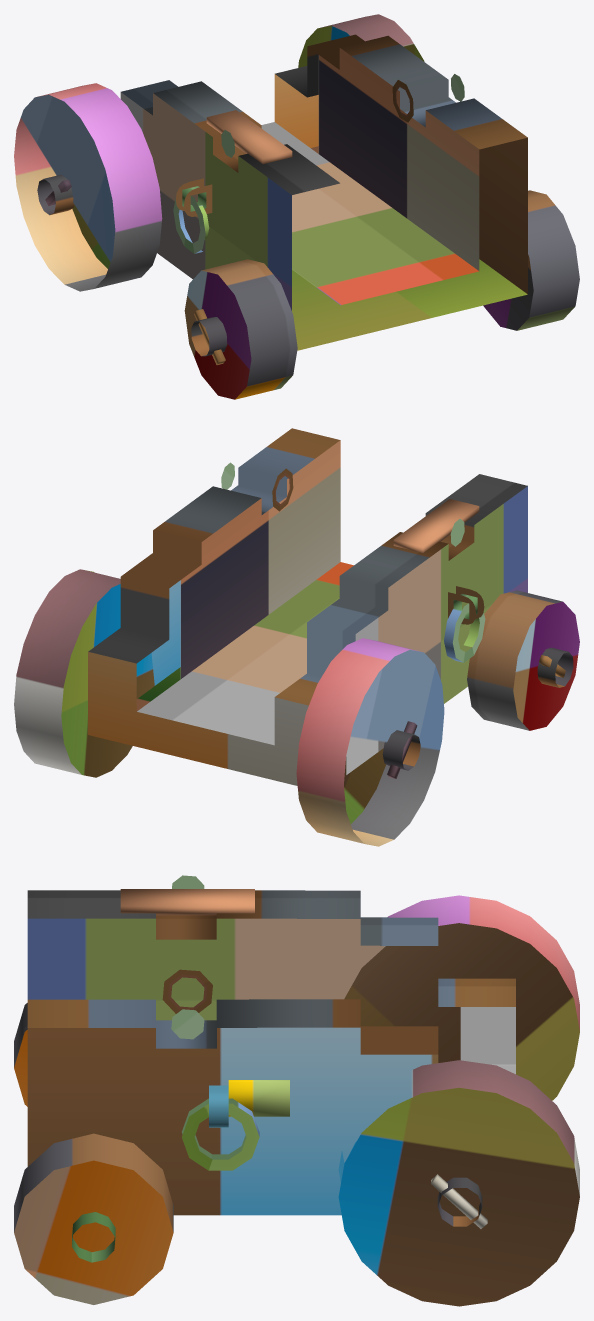
The model's file is CannonStand.gltf.
3 renders of one model, top to bottom at view 1: azimuth 30°, elevation 25°; view 2: azimuth 150°, elevation 25°; view 3: azimuth 270°, elevation 25°, orthographic. The views are drawn at different scales.
Visible parts, largest first — view 1: Cannon; view 2: Cannon; view 3: Cannon.
Boxes of the visible parts, <box> form: Cannon: <box>14,14,579,399</box>; Cannon: <box>14,428,579,846</box>; Cannon: <box>14,875,579,1306</box>.
Bounding box in the file's own units: 1.81 × 1.1 × 2.04.
